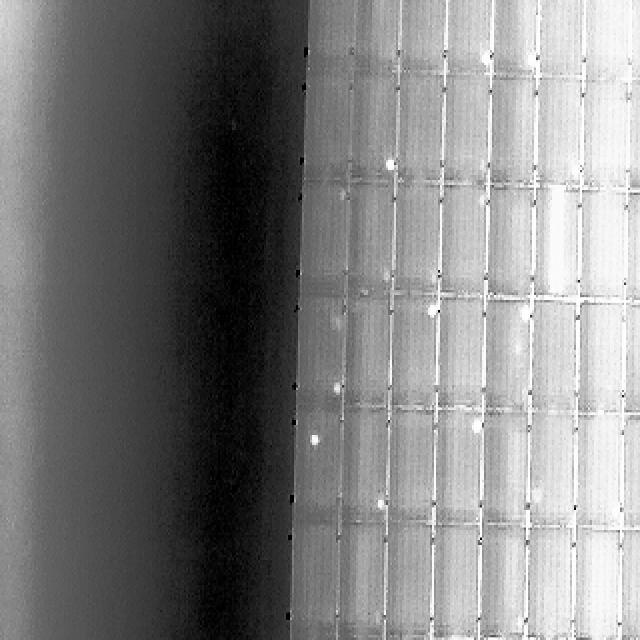Hotspots: (304, 426, 332, 452), (472, 46, 496, 74), (368, 488, 391, 516), (324, 374, 347, 401), (377, 147, 397, 178), (564, 155, 584, 184), (518, 301, 536, 333), (510, 610, 528, 640), (522, 44, 538, 69), (423, 300, 442, 321), (382, 262, 398, 286), (465, 414, 484, 434)
PV-modules: (294, 402, 346, 521), (341, 408, 392, 529), (344, 182, 396, 298), (438, 76, 491, 188), (478, 522, 528, 640), (336, 522, 386, 640), (393, 181, 444, 296), (432, 406, 482, 523), (294, 298, 346, 410), (382, 523, 432, 639), (395, 76, 447, 187), (485, 185, 536, 298), (526, 525, 576, 640), (572, 418, 622, 532), (292, 524, 342, 638), (391, 297, 441, 411), (430, 522, 478, 640), (570, 527, 620, 640), (436, 184, 486, 297), (482, 300, 532, 413), (298, 181, 347, 296), (388, 411, 437, 526), (487, 78, 538, 188), (342, 298, 392, 410), (348, 76, 398, 187), (481, 410, 530, 523), (536, 78, 586, 188), (578, 189, 628, 299), (435, 298, 484, 410), (532, 301, 581, 413), (534, 184, 582, 298), (582, 82, 632, 191), (303, 77, 352, 186), (530, 413, 578, 524), (575, 304, 623, 415), (307, 0, 373, 74), (579, 0, 631, 82), (488, 0, 540, 75), (538, 0, 588, 78), (442, 0, 492, 75), (399, 0, 449, 73), (355, 0, 400, 75), (618, 527, 640, 640), (620, 418, 640, 532), (622, 302, 640, 418), (622, 83, 640, 195), (624, 190, 640, 300), (628, 0, 640, 82), (286, 637, 336, 640)
